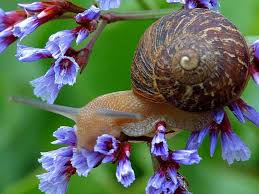snail: (11, 8, 251, 153)
